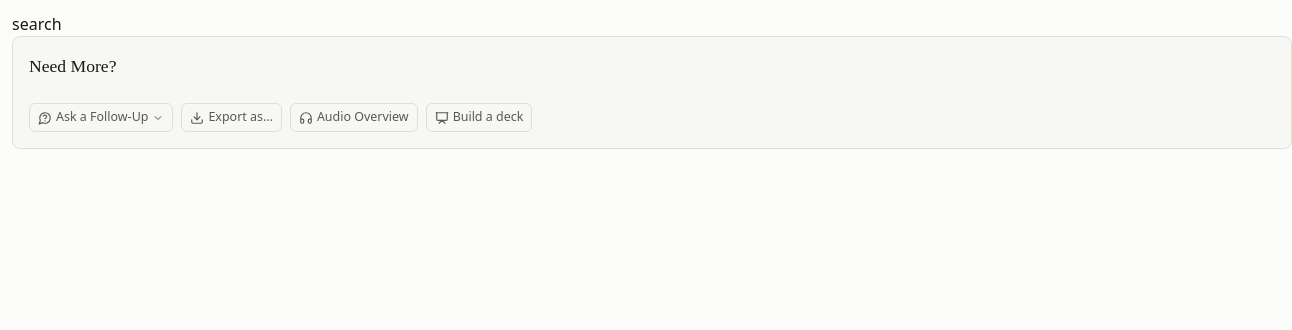
Test: NeedMoreCard › Ask-Follow-Up toggles the follow-up input open and closed multiple times
// First press: opens
Click the button "Ask a Follow-Up" at (101, 118), box [29,103,173,132]
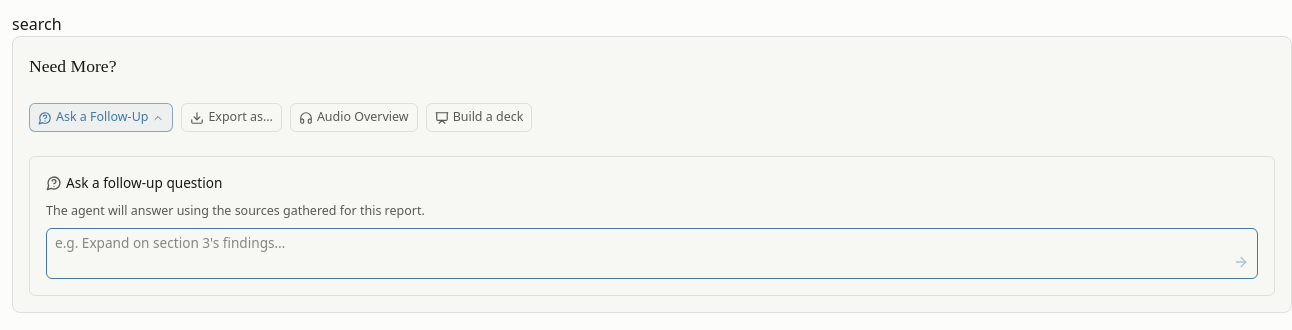
Expected: the element named "Follow-up input" is shown, [29,156,1275,296]
Expected: the text box with placeholder "e.g. Expand on section 3's findings…" is shown, [55,233,1229,274]
Expected: the button "Ask a Follow-Up" is expanded
// Second press: closes
Click the button "Ask a Follow-Up" at (101, 118), box [29,103,173,132]
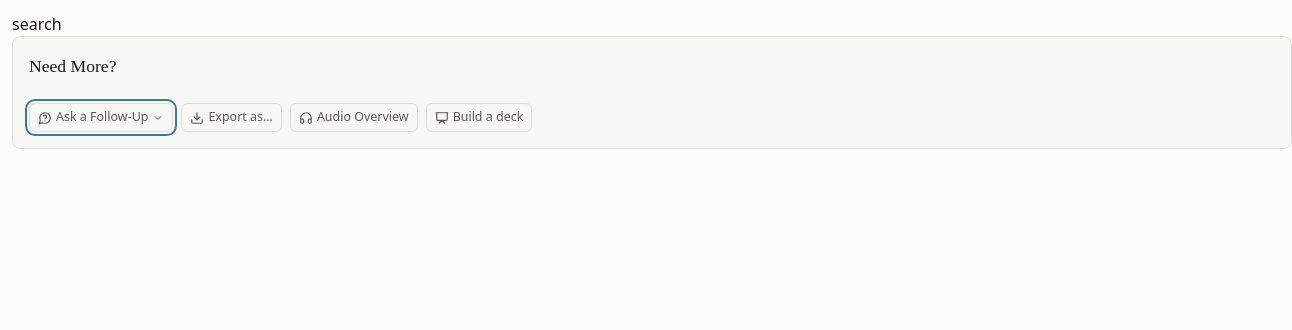
Expected: the button "Ask a Follow-Up" is collapsed
// Third press: opens again (the "re-press" robustness check)
Click the button "Ask a Follow-Up" at (101, 118), box [29,103,173,132]
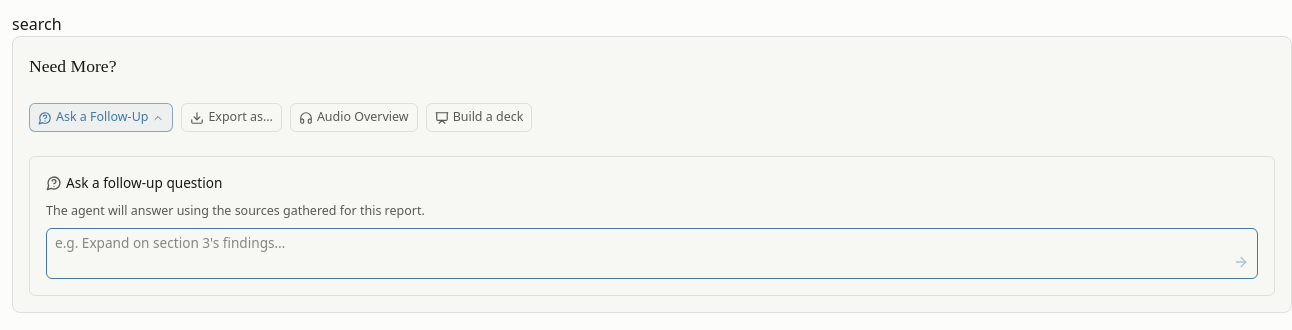
Expected: the element named "Follow-up input" is shown, [29,156,1275,296]
Expected: the button "Ask a Follow-Up" is expanded, [29,103,173,132]
